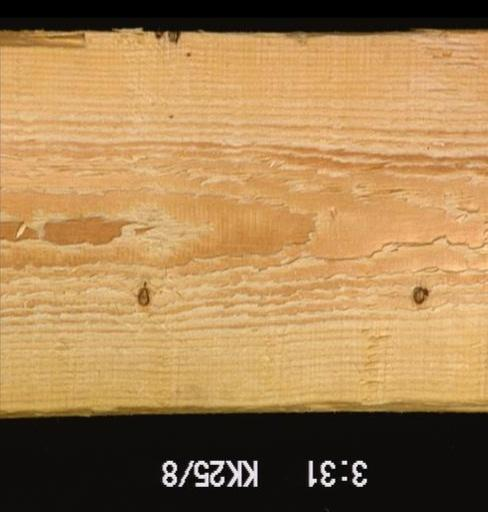dry_knot: (411, 284, 429, 304), (137, 285, 151, 306)
edge_knot: (168, 30, 180, 43), (153, 29, 164, 38)
wave: (293, 389, 486, 412), (0, 31, 90, 54)
